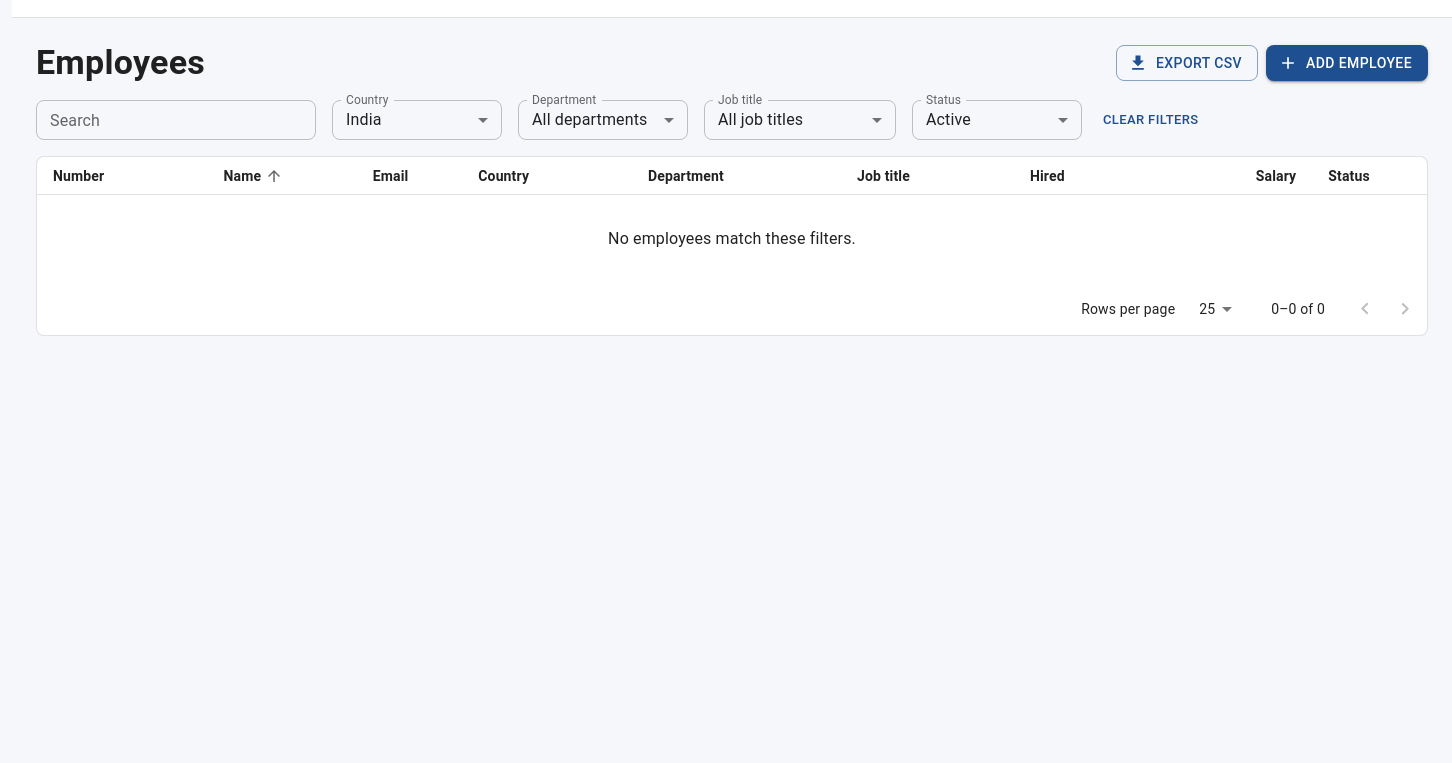
Test: the employee directory › what it shows › says so when nothing matches, and the filter bar offers to clear the filters
This screenshot has width=1452, height=763.
Expected: the text "No employees match these filters." is shown, x1=608 y1=229 x2=856 y2=248
Click the button "Clear filters" at {"x": 1151, "y": 120}, box x1=1098 y1=105 x2=1204 y2=135
(page scrolled)
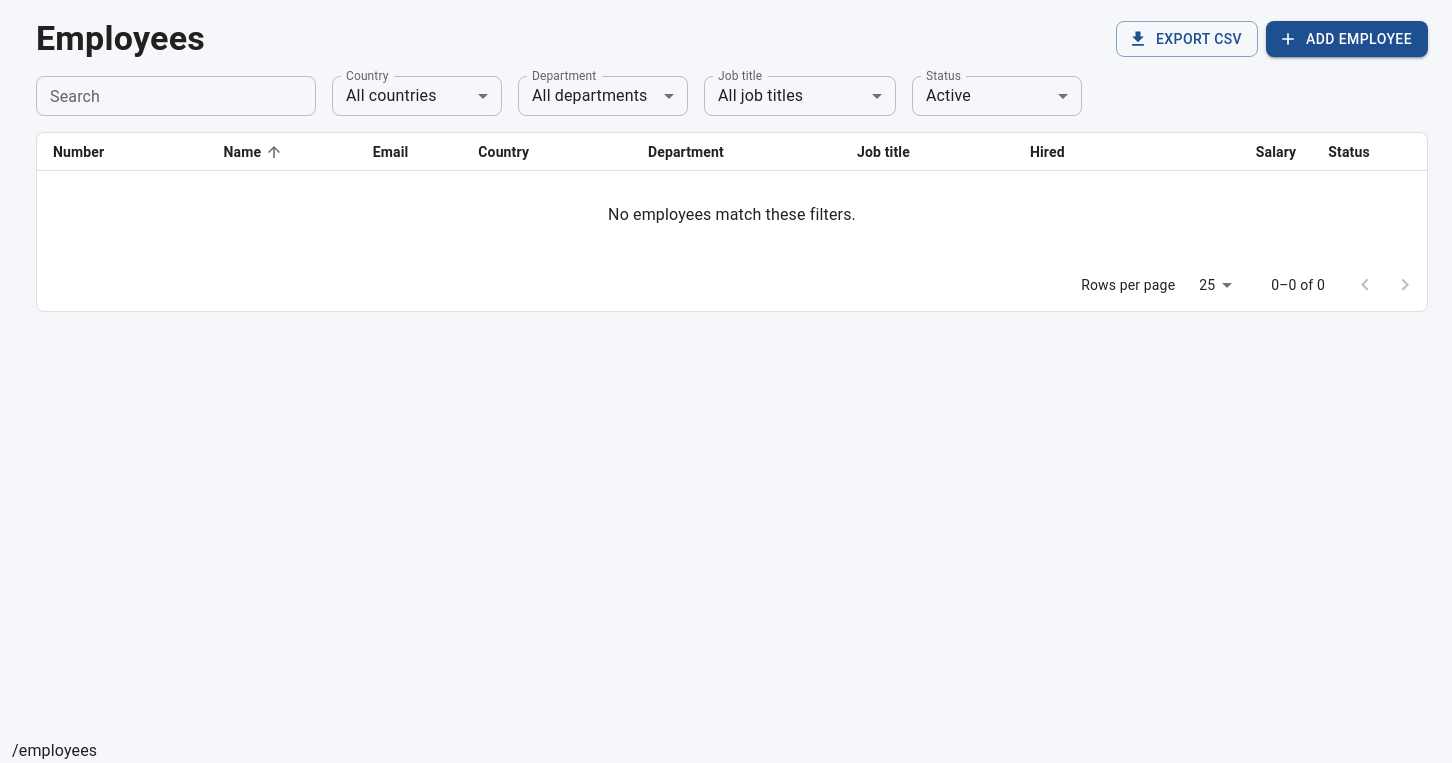
Expected: the text with test id "location" reads "/employees", x1=12 y1=741 x2=97 y2=760
